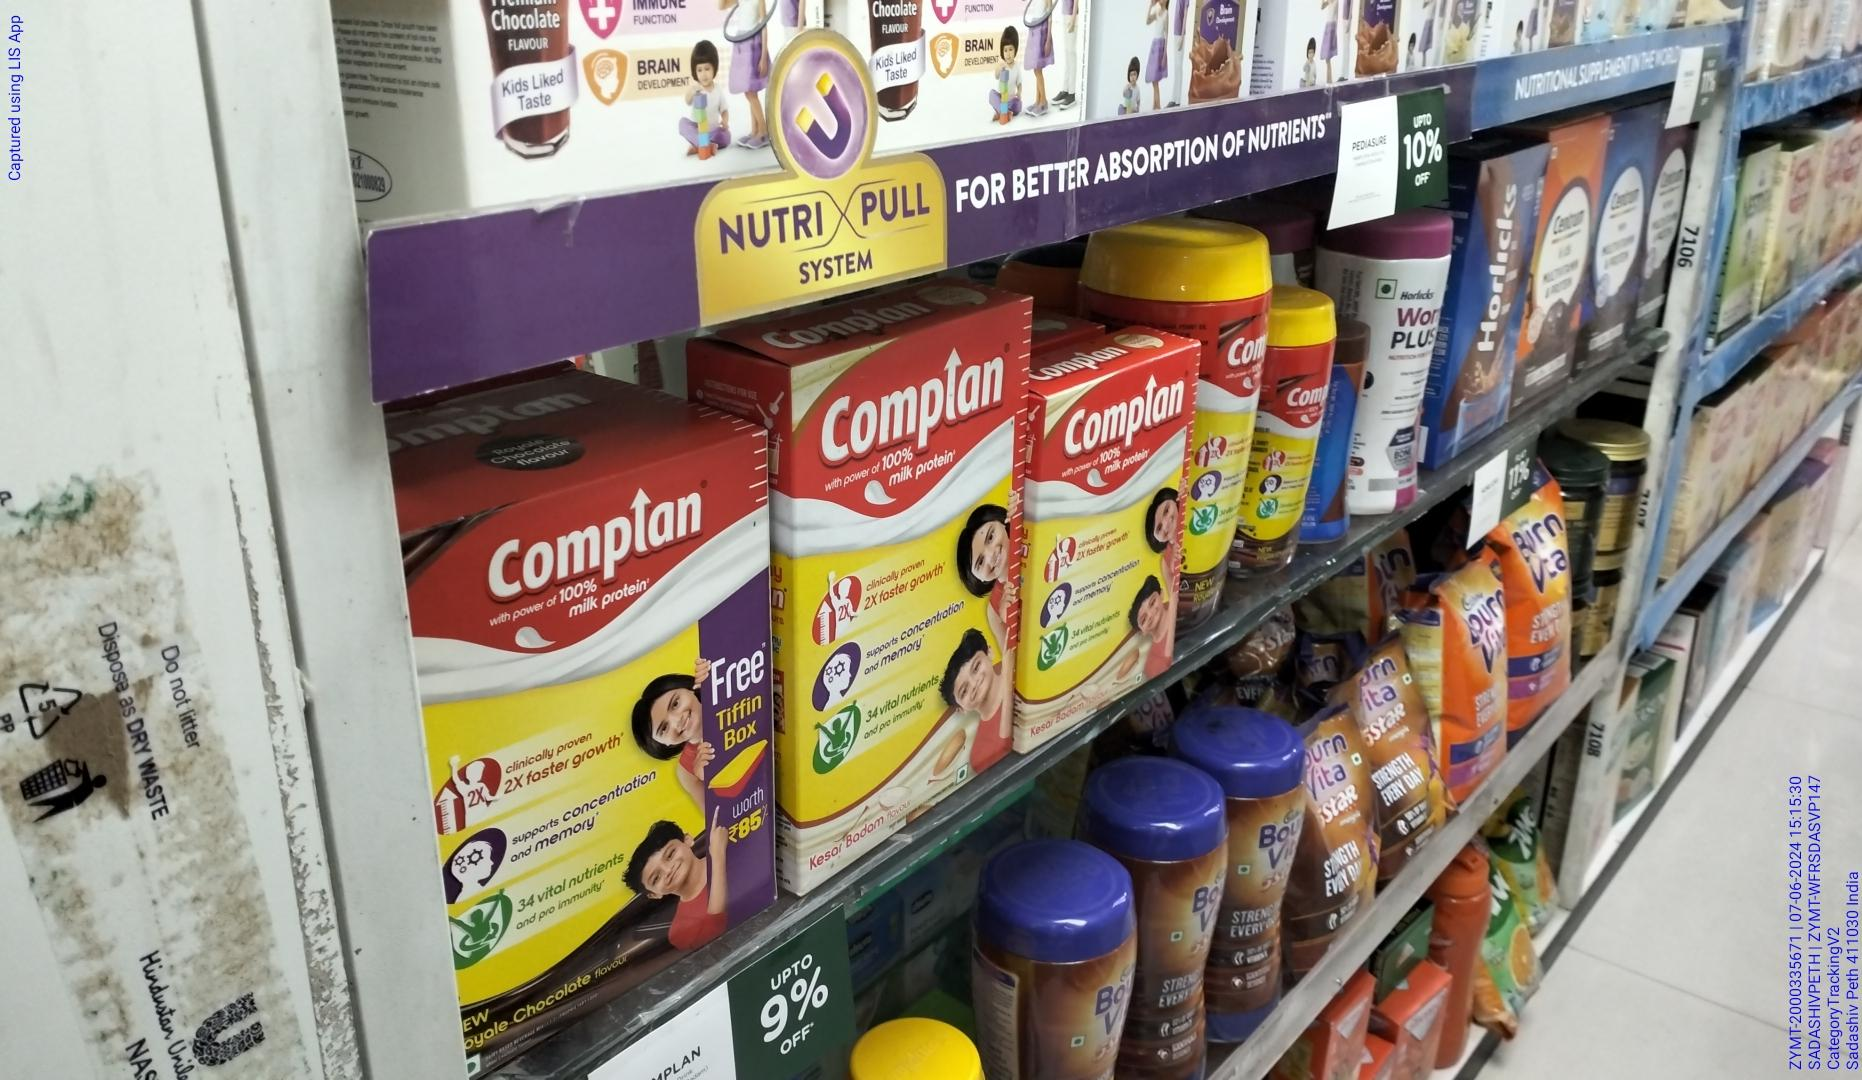BOURN_VITA_FIVE_STAR_MAGIC_500_G_JAR: (1148, 795, 1232, 1080), (1236, 728, 1306, 1047)
COMPLAN_CHOCOLATE_200_GMS_JAR: (1270, 300, 1336, 546)
COMPLAN_CHOCOLATE_500_GMS_JAR: (1194, 237, 1268, 580)
COMPLAN_KESAR_BADAM_200_GMS_PACK: (1031, 378, 1193, 750)
COMPLAN_KESAR_BADAM_500_GMS_PACK: (792, 334, 1020, 892)
